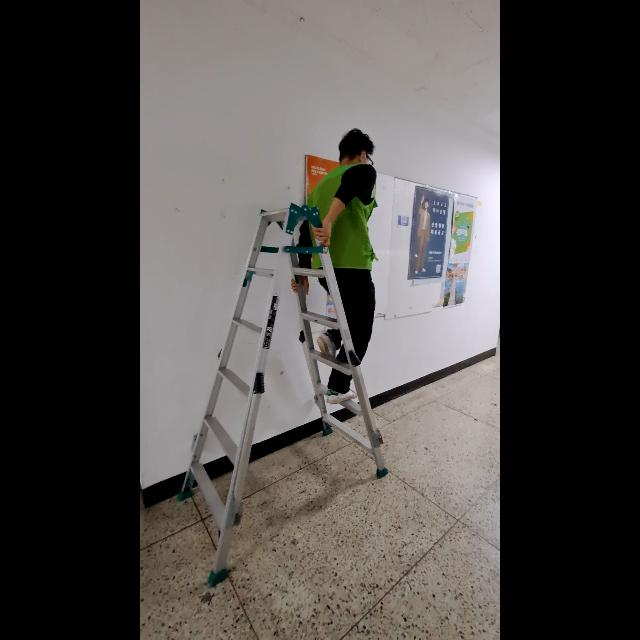hard hat: (165, 198, 397, 594)
vest: (289, 121, 381, 407)
